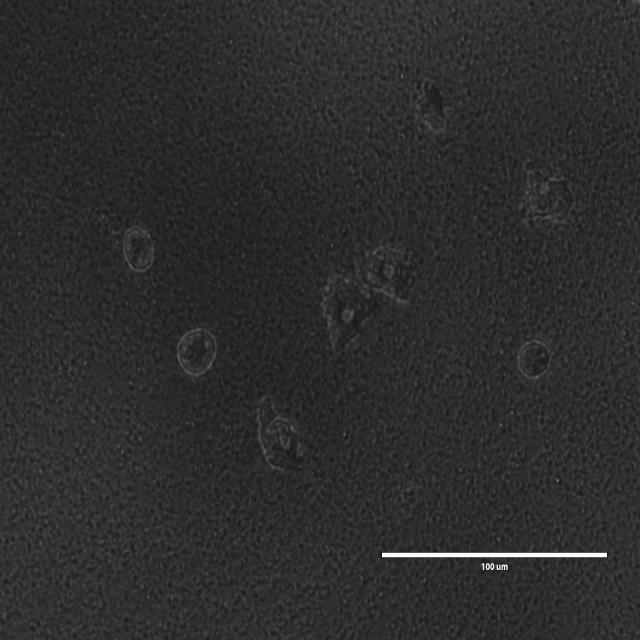Amoeba: (319, 271, 377, 352), (357, 234, 416, 309), (255, 398, 311, 476), (522, 155, 575, 232), (174, 322, 221, 383), (121, 219, 156, 273), (418, 80, 451, 134), (516, 333, 552, 382)
